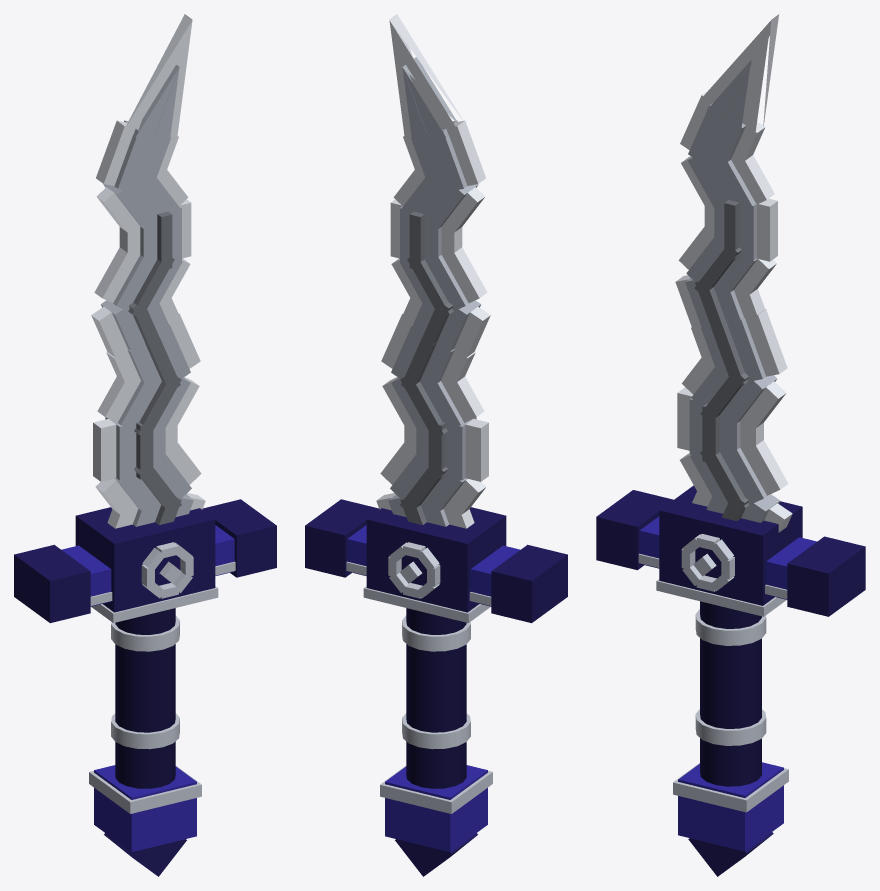
3 views of the same model, side by side, from view 1: azimuth 30°, elevation 25°; view 2: azimuth 150°, elevation 25°; view 3: azimuth 330°, elevation 25° (orthographic). The views are drawn at different scales.
Parts seen in each view (by area): view 1: venom-kris; view 2: venom-kris; view 3: venom-kris.
Boxes of the visible parts, x1,y1,x2,y2 form: venom-kris: (14, 14, 276, 876); venom-kris: (305, 14, 567, 876); venom-kris: (596, 14, 865, 876).
Size of the model in its own units: 0.1574 by 0.5568 by 0.0666.
